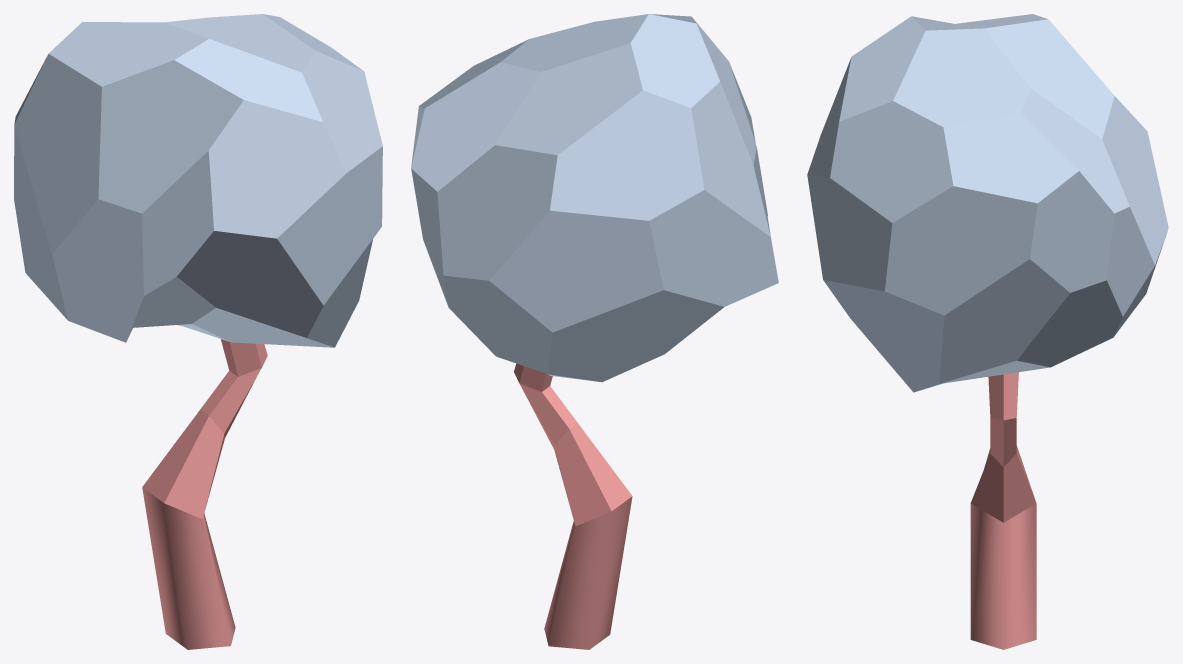
File: tree.gltf
3 renders of one model, left to right at view 1: azimuth 30°, elevation 25°; view 2: azimuth 150°, elevation 25°; view 3: azimuth 270°, elevation 25°, orthographic. The views are drawn at different scales.
Parts seen in each view (by area): view 1: Tree low; view 2: Tree low; view 3: Tree low.
Boxes of the visible parts, x1,y1,x2,y2 form: Tree low: (14,14,382,649); Tree low: (411,14,778,649); Tree low: (807,14,1168,649).
Size of the model in its own units: 65.79 by 121 by 67.59.
